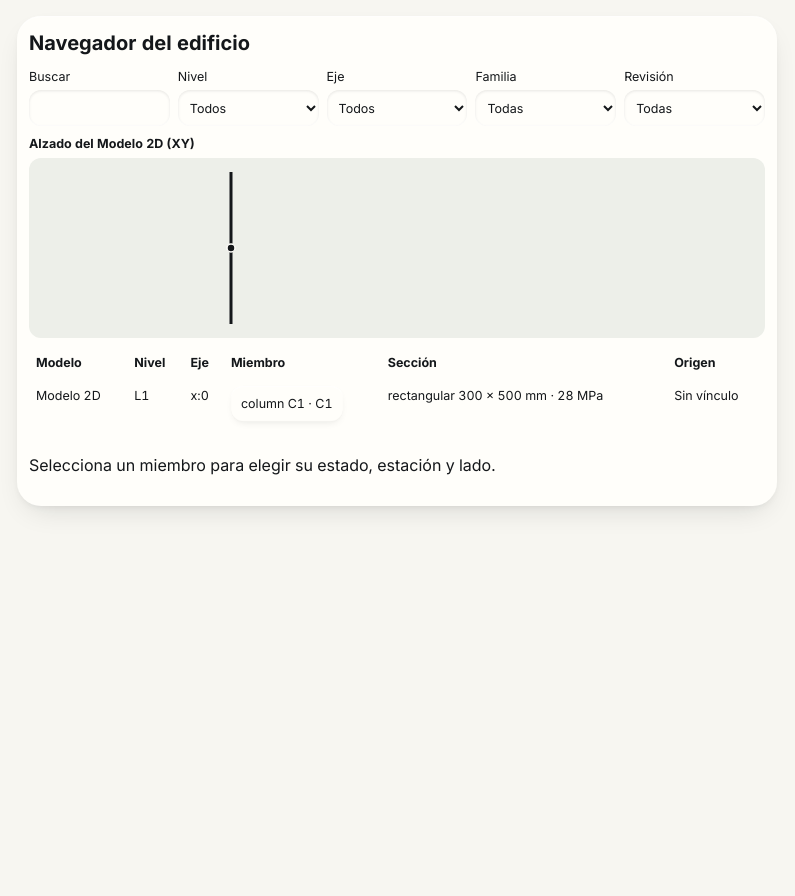
Test case: invalida una vista previa lista cuando cambia el borrador de diseño
Click the button with aria-label "Seleccionar column C1". click: (287, 404)
box: [231,386,343,422]
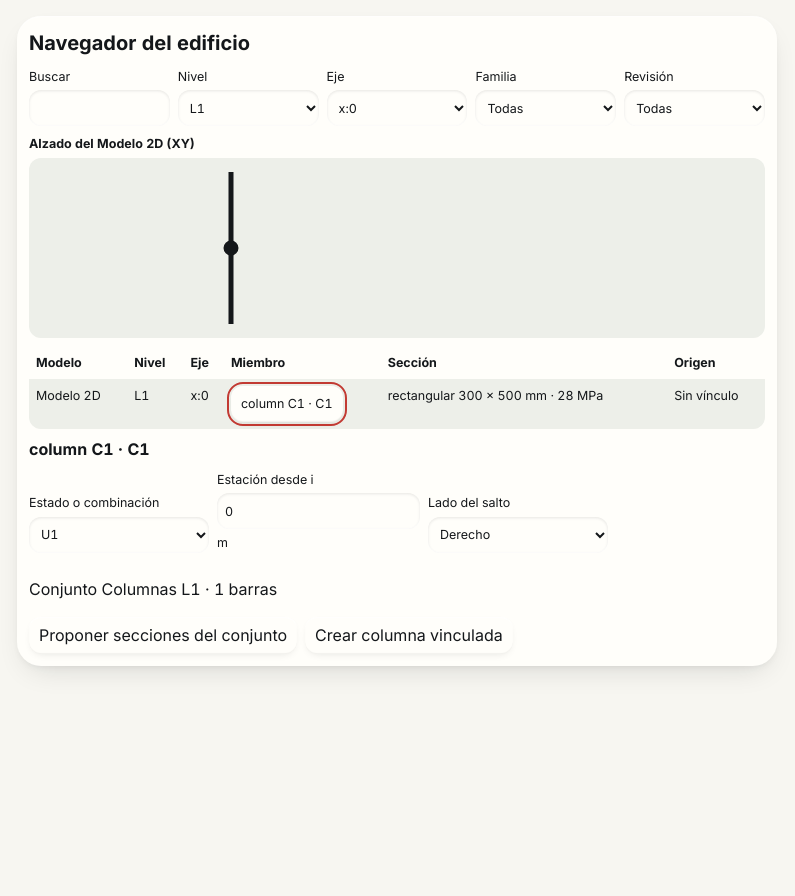
Click the button with test id "propose-linked-group". click: (163, 636)
box: [29,618,297,654]
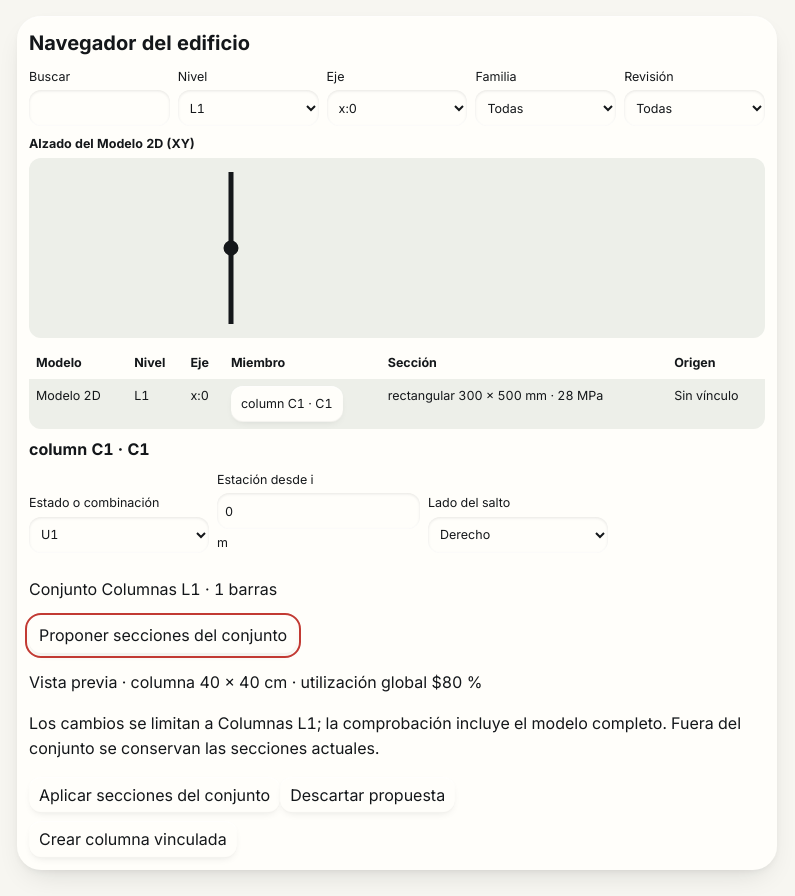
Expected: the element with test id "group-proposal-preview" is shown, [29,670,765,814]
